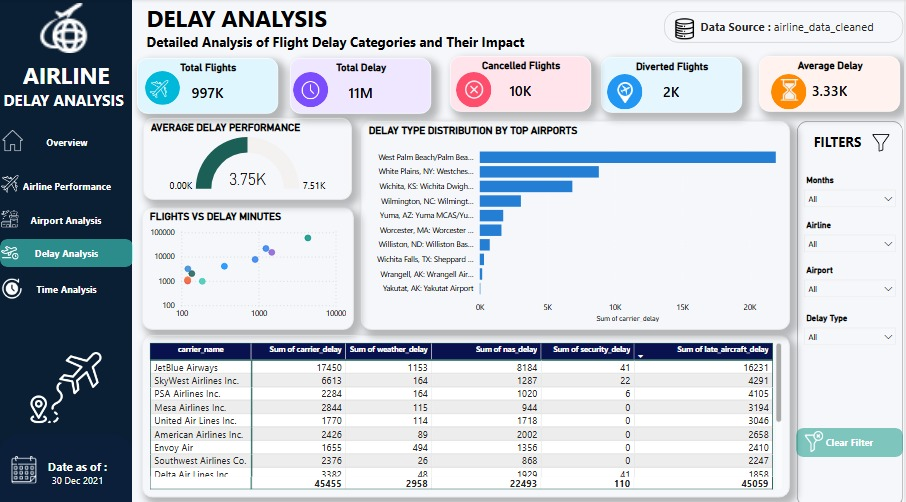

This screenshot's page, from the dashboard's own definition file:
{"tool":"powerbi","page":{"name":"Delay Analysis","canvas":[1280,720],"ordinal":3},"visuals":[{"type":"shape","box":[0,0,187.2,720],"z":0},{"type":"actionButton","box":[1.4,182.8,187.1,41.1],"z":1000},{"type":"textbox","box":[202.7,0,609.4,83.6],"z":2000},{"type":"cardVisual","title":"Total Flights","fields":{"Data":["airline_data_cleaned.Total Flights"]},"box":[194,83.6,200,79.4],"z":3000},{"type":"actionButton","box":[1.4,245.2,187.1,39.7],"z":4000},{"type":"actionButton","box":[0,293.4,187.1,39.7],"z":5000},{"type":"actionButton","box":[0,340.2,188.5,39.7],"z":6000},{"type":"actionButton","box":[1.4,391.2,185.7,39.7],"z":7000},{"type":"cardVisual","title":"Diverted Flights","fields":{"Data":["airline_data_cleaned.Diverted Flights"]},"box":[851.8,82.2,199.8,79.4],"z":8000},{"type":"cardVisual","title":"Cancelled Flights","fields":{"Data":["airline_data_cleaned.Cancelled Flights"]},"box":[637.8,80.8,199.8,79.4],"z":9000},{"type":"cardVisual","title":"Total  Delay","fields":{"Data":["airline_data_cleaned.Total Delay"]},"box":[411.5,83.9,200.2,79.2],"z":10000},{"type":"slicer","fields":{"Values":["airline_data_cleaned.airport"]},"box":[1129.8,372.8,150.2,49.6],"z":11000},{"type":"scatterChart","title":"FLIGHTS VS DELAY MINUTES","fields":{"Y":["Sum(airline_data_cleaned.arr_delay)"],"X":["Sum(airline_data_cleaned.arr_flights)"],"Series":["airline_data_cleaned.airport_name"]},"box":[201.3,294.8,300.5,174.3],"z":12000},{"type":"gauge","title":"AVERAGE DELAY PERFORMANCE","fields":{"Y":["Avg(airline_data_cleaned.arr_delay)"]},"box":[202.7,168.7,296.2,116.2],"z":13000},{"type":"pivotTable","title":"DELAY CONTRIBUTION BY AIRLINE","fields":{"Rows":["airline_data_cleaned.carrier_name"],"Values":["Sum(airline_data_cleaned.carrier_delay)","Sum(airline_data_cleaned.weather_delay)","Sum(airline_data_cleaned.nas_delay)","Sum(airline_data_cleaned.security_delay)","Sum(airline_data_cleaned.late_aircraft_delay)"]},"box":[201.3,476.2,918.4,229.6],"z":14000},{"type":"shape","box":[205.5,102,49.6,48.2],"z":15000},{"type":"cardVisual","title":"Average Delay","fields":{"Data":["airline_data_cleaned.Avg Delay"]},"box":[1076.4,81,200.2,79.2],"z":16000},{"type":"image","box":[1.4,249.4,25,25],"z":17000},{"type":"image","box":[2.8,185.7,30,30],"z":18000},{"type":"image","box":[1.4,298.7,25,25],"z":19000},{"type":"image","box":[1.4,347.4,25,25],"z":20000},{"type":"image","box":[1.4,395.4,31.2,29.8],"z":21000},{"type":"image","box":[205.5,114.8,39.7,25.5],"z":22000},{"type":"shape","box":[415.8,103.8,50,50],"z":23000},{"type":"image","box":[419.5,116.2,41.1,25.5],"z":24000},{"type":"shape","box":[646,104,50.4,50.4],"z":25000},{"type":"image","box":[652,113.4,39.7,29.8],"z":26000},{"type":"shape","box":[860.6,106.8,50.4,50.4],"z":27000},{"type":"image","box":[866,117.6,39.7,29.8],"z":28000},{"type":"shape","box":[1093.3,106.8,50.4,50.4],"z":29000},{"type":"image","box":[1098.4,113.4,41.1,31.2],"z":30000},{"type":"image","box":[0,500.3,187.1,100.6],"z":31000},{"type":"shape","box":[0,616.3,187.2,103.7],"z":32000},{"type":"image","box":[11.5,648,44.6,38.9],"z":33000},{"type":"actionButton","box":[1133.9,185.7,106.3,28.3],"z":34000},{"type":"image","box":[1233.1,191.3,30,25],"z":35000},{"type":"shape","box":[1129.6,172.9,150.2,547.1],"z":36000},{"type":"slicer","fields":{"Values":["airline_data_cleaned.month"]},"box":[1129.8,245.2,150.2,49.6],"z":37000},{"type":"slicer","fields":{"Values":["airline_data_cleaned.arr_delay"]},"box":[1129.8,440.8,150.2,49.6],"z":38000},{"type":"slicer","fields":{"Values":["airline_data_cleaned.arr_flights"]},"box":[1129.8,309,150.2,49.6],"z":39000},{"type":"image","box":[49.6,5.7,80.8,70.9],"z":40000},{"type":"textbox","box":[0,80.8,187.1,92.1],"z":41000},{"type":"actionButton","box":[56.7,647.7,106.3,28.3],"z":42000},{"type":"actionButton","box":[56.7,667.6,106.3,28.3],"z":43000},{"type":"textbox","box":[941.1,17,338.7,45],"z":44000},{"type":"image","box":[955.3,21.3,30,41.1],"z":45000},{"type":"actionButton","box":[1128.2,608,151.7,41.1],"z":46000},{"type":"image","box":[1129.6,612.3,48.2,29.8],"z":47000},{"type":"clusteredBarChart","title":"DELAY TYPE DISTRIBUTION BY TOP AIRPORTS","fields":{"Category":["airline_data_cleaned.airport_name","airline_data_cleaned.late_aircraft_delay"],"Y":["Sum(airline_data_cleaned.carrier_delay)"]},"box":[511.7,172.9,608,296.2],"z":48000}]}

Visuals, with their boxes in screenshot pixels (x1, y1, x2, y2), scaled from the page's 1280x720 canvas onto the 906x502 screenshot:
shape: select_region(0, 0, 133, 501)
actionButton: select_region(1, 127, 133, 156)
textbox: select_region(143, 0, 575, 58)
"Total Flights" cardVisual: select_region(137, 58, 279, 114)
actionButton: select_region(1, 171, 133, 199)
actionButton: select_region(0, 205, 132, 232)
actionButton: select_region(0, 237, 133, 265)
actionButton: select_region(1, 273, 132, 300)
"Diverted Flights" cardVisual: select_region(603, 57, 744, 113)
"Cancelled Flights" cardVisual: select_region(451, 56, 593, 112)
"Total  Delay" cardVisual: select_region(291, 58, 433, 114)
slicer - airline_data_cleaned.airport: select_region(800, 260, 905, 295)
"FLIGHTS VS DELAY MINUTES" scatterChart: select_region(142, 206, 355, 327)
"AVERAGE DELAY PERFORMANCE" gauge: select_region(143, 118, 353, 199)
"DELAY CONTRIBUTION BY AIRLINE" pivotTable: select_region(142, 332, 793, 492)
shape: select_region(145, 71, 181, 105)
"Average Delay" cardVisual: select_region(762, 56, 904, 112)
image: select_region(1, 174, 19, 191)
image: select_region(2, 129, 23, 150)
image: select_region(1, 208, 19, 226)
image: select_region(1, 242, 19, 260)
image: select_region(1, 276, 23, 296)
image: select_region(145, 80, 174, 98)
shape: select_region(294, 72, 330, 107)
image: select_region(297, 81, 326, 99)
shape: select_region(457, 73, 493, 108)
image: select_region(461, 79, 490, 100)
shape: select_region(609, 74, 645, 110)
image: select_region(613, 82, 641, 103)
shape: select_region(774, 74, 810, 110)
image: select_region(777, 79, 807, 101)
image: select_region(0, 349, 132, 419)
shape: select_region(0, 430, 133, 501)
image: select_region(8, 452, 40, 479)
actionButton: select_region(803, 129, 878, 149)
image: select_region(873, 133, 894, 151)
shape: select_region(800, 121, 905, 501)
slicer - airline_data_cleaned.month: select_region(800, 171, 905, 206)
slicer - airline_data_cleaned.arr_delay: select_region(800, 307, 905, 342)
slicer - airline_data_cleaned.arr_flights: select_region(800, 215, 905, 250)
image: select_region(35, 4, 92, 53)
textbox: select_region(0, 56, 132, 121)
actionButton: select_region(40, 452, 115, 471)
actionButton: select_region(40, 465, 115, 485)
textbox: select_region(666, 12, 905, 43)
image: select_region(676, 15, 697, 44)
actionButton: select_region(799, 424, 905, 453)
image: select_region(800, 427, 834, 448)
"DELAY TYPE DISTRIBUTION BY TOP AIRPORTS" clusteredBarChart: select_region(362, 121, 793, 327)
